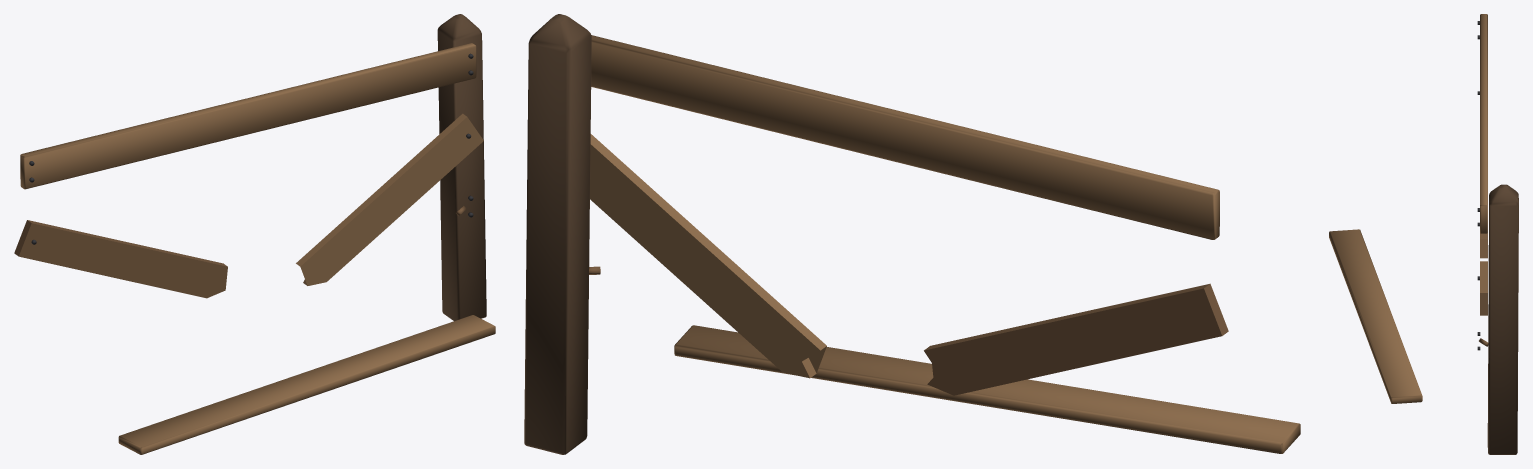
File: Barriere_Section_Cassee.fbx
3 views of the same model, side by side, from view 1: azimuth 30°, elevation 25°; view 2: azimuth 150°, elevation 25°; view 3: azimuth 270°, elevation 25° (orthographic). The views are drawn at different scales.
Visible parts, largest first — view 1: Barriere_Section_Cassee; view 2: Barriere_Section_Cassee; view 3: Barriere_Section_Cassee.
Boxes of the visible parts, left/top/right/bottom form: Barriere_Section_Cassee: left=14, top=14, right=495, bottom=454; Barriere_Section_Cassee: left=524, top=14, right=1300, bottom=454; Barriere_Section_Cassee: left=1329, top=14, right=1518, bottom=454.
Size of the model in its own units: 2.09 by 1.27 by 0.8328.
